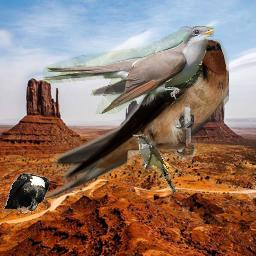Crow: (2, 172, 50, 215)
Cuckoo: (43, 26, 214, 114), (132, 134, 177, 193)
Swallow: (34, 39, 229, 198)
